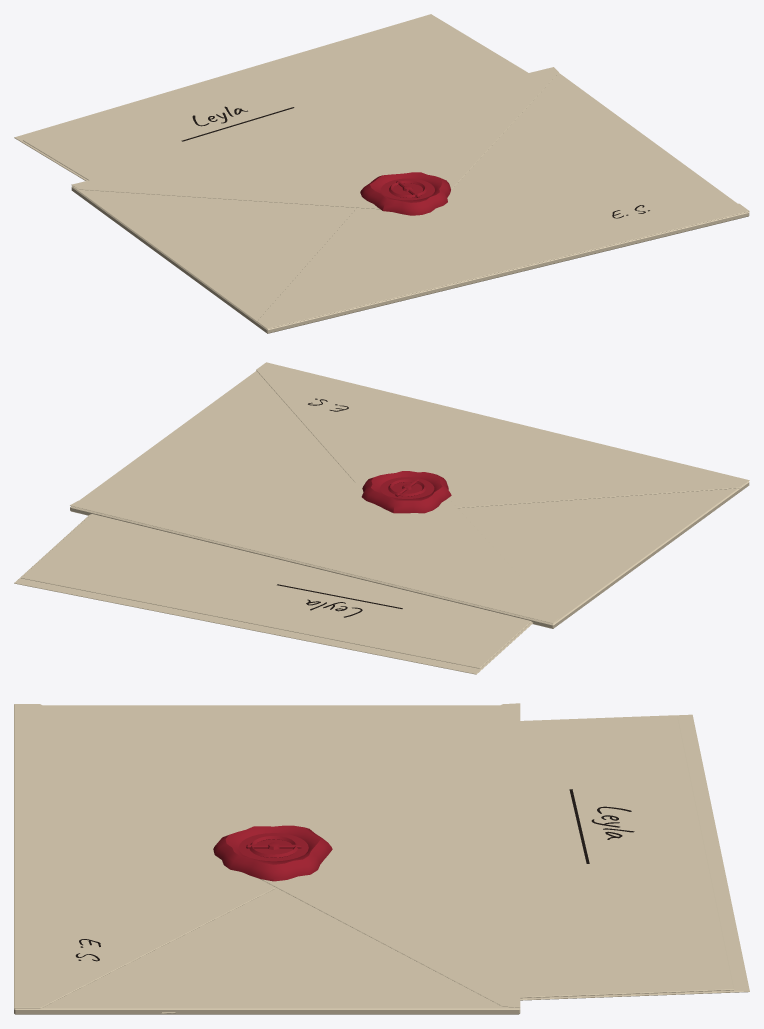
The model's file is letter.glb.
3 renders of one model, top to bottom at view 1: azimuth 30°, elevation 25°; view 2: azimuth 150°, elevation 25°; view 3: azimuth 270°, elevation 25°, orthographic. The views are drawn at different scales.
Parts seen in each view (by area): view 1: letter; view 2: letter; view 3: letter.
Boxes of the visible parts, box(x1,y1,x2,y2) form: letter: box(14, 14, 749, 333); letter: box(14, 362, 749, 674); letter: box(14, 703, 749, 1014).
Size of the model in its own units: 0.1623 by 0.00484 by 0.1658.
